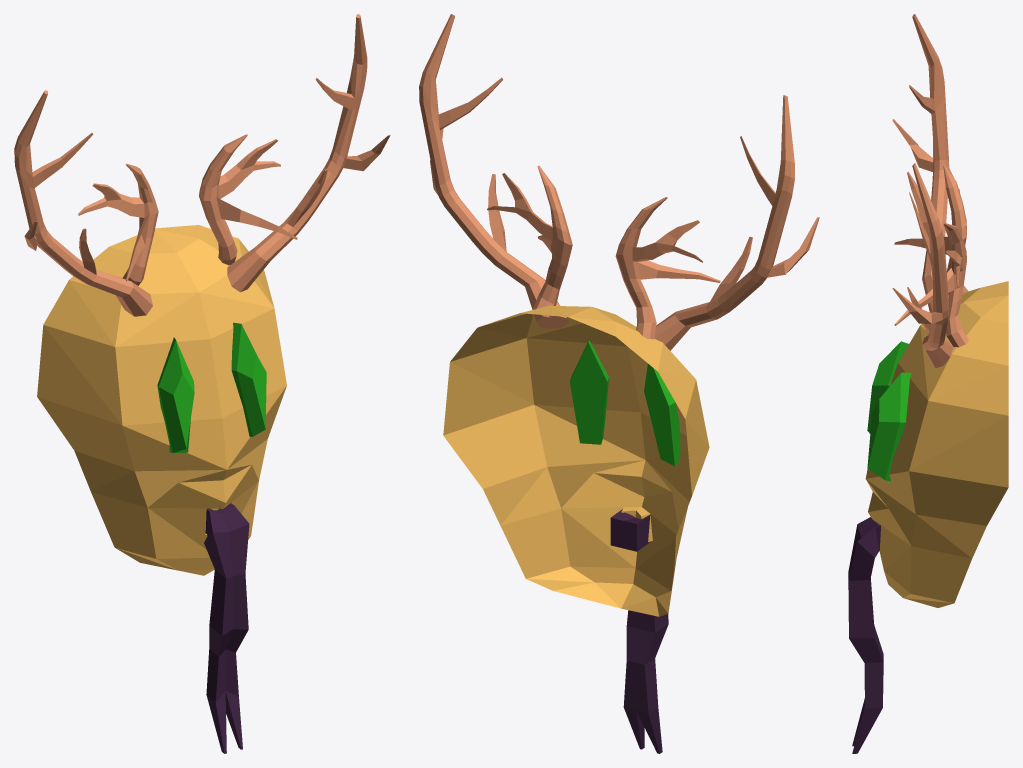
The model's file is Máscara.fbx.
3 views of the same model, side by side, from view 1: azimuth 30°, elevation 25°; view 2: azimuth 150°, elevation 25°; view 3: azimuth 270°, elevation 25° (orthographic). The views are drawn at different scales.
Visible parts, largest first — view 1: Máscara, Cuerno1, Cube.001, Cuerno2, Ojo; view 2: Máscara, Cuerno1, Cuerno2, Cube.001, Ojo; view 3: Máscara, Cuerno1, Cube.001, Ojo, Cuerno2.
Part boxes in pixels (x1,y1,x2,y2): Máscara: (37, 225, 286, 575); Cuerno1: (14, 14, 390, 316); Cube.001: (204, 503, 249, 753); Cuerno2: (78, 134, 297, 285); Ojo: (157, 322, 266, 452); Máscara: (443, 305, 709, 616); Cuerno1: (419, 14, 819, 350); Cuerno2: (487, 165, 720, 339); Cube.001: (610, 509, 668, 753); Ojo: (570, 340, 680, 466); Máscara: (865, 281, 1008, 607); Cuerno1: (892, 14, 952, 368); Cube.001: (848, 517, 883, 753); Ojo: (867, 341, 911, 481); Cuerno2: (894, 164, 968, 347).
Bounding box in the file's own units: 257 × 468 × 103.
